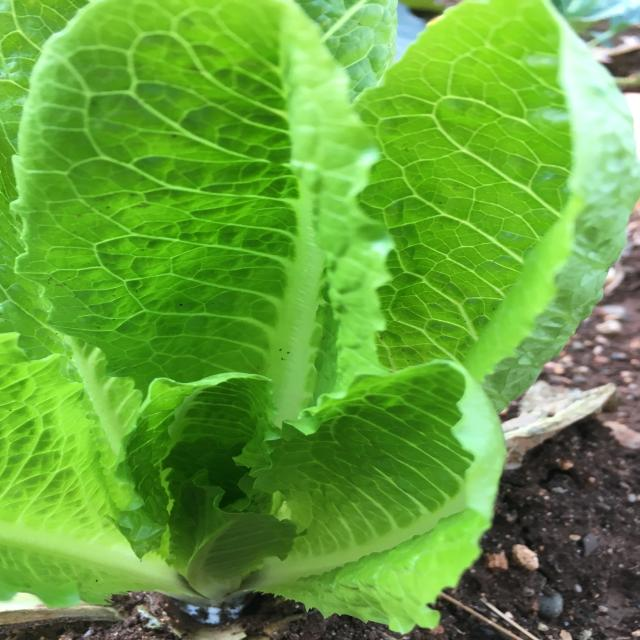Healthy Lettuce: (4, 2, 634, 632), (351, 1, 635, 407)
